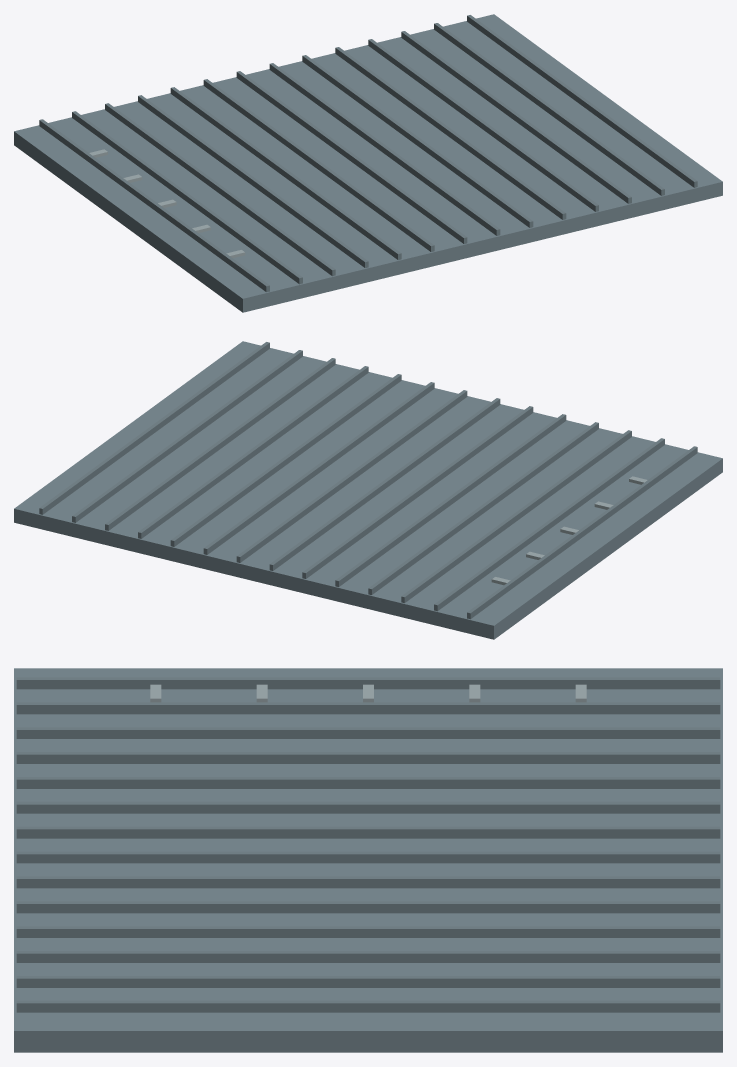
Rendered from DF_ART_HarborAnnex_Roof.glb.
3 views of the same model, one above another, from view 1: azimuth 30°, elevation 25°; view 2: azimuth 150°, elevation 25°; view 3: azimuth 270°, elevation 25° (orthographic). The views are drawn at different scales.
Parts seen in each view (by area): view 1: roof_main_0, roof_rib_10, roof_rib_8, roof_rib_9, roof_rib_5, roof_rib_6, roof_rib_7, roof_rib_1, roof_rib_2, roof_rib_3, roof_rib_4, roof_rib_11 (+3 smaller); view 2: roof_main_0, roof_rib_10, roof_rib_8, roof_rib_9, roof_rib_5, roof_rib_6, roof_rib_7, roof_rib_1, roof_rib_2, roof_rib_3, roof_rib_4, roof_rib_11 (+3 smaller); view 3: roof_main_0, roof_rib_2, roof_rib_6, roof_rib_7, roof_rib_9, roof_rib_10, roof_rib_14, roof_rib_8, roof_rib_1, roof_rib_3, roof_rib_4, roof_rib_5 (+3 smaller).
Boxes of the visible parts, box(x1,y1,x2,y2) form: roof_main_0: box(14, 14, 722, 312); roof_rib_10: box(335, 47, 566, 219); roof_rib_8: box(269, 63, 500, 235); roof_rib_9: box(302, 55, 533, 227); roof_rib_5: box(170, 87, 401, 259); roof_rib_6: box(203, 79, 434, 251); roof_rib_7: box(236, 71, 467, 243); roof_rib_1: box(39, 119, 269, 292); roof_rib_2: box(72, 111, 302, 284); roof_rib_3: box(105, 103, 335, 276); roof_rib_4: box(138, 95, 368, 267); roof_rib_11: box(368, 39, 598, 211); roof_main_0: box(14, 341, 722, 639); roof_rib_10: box(170, 374, 401, 546); roof_rib_8: box(236, 390, 467, 562); roof_rib_9: box(203, 382, 434, 554); roof_rib_5: box(335, 414, 566, 586); roof_rib_6: box(302, 406, 533, 578); roof_rib_7: box(269, 398, 500, 570); roof_rib_1: box(467, 446, 697, 619); roof_rib_2: box(434, 438, 664, 611); roof_rib_3: box(401, 430, 631, 603); roof_rib_4: box(368, 422, 598, 594); roof_rib_11: box(138, 366, 368, 538); roof_main_0: box(14, 668, 722, 1052); roof_rib_2: box(16, 702, 720, 714); roof_rib_6: box(16, 801, 720, 813); roof_rib_7: box(16, 826, 720, 838); roof_rib_9: box(16, 876, 720, 888); roof_rib_10: box(16, 901, 720, 913); roof_rib_14: box(16, 1000, 720, 1012); roof_rib_8: box(16, 851, 720, 863); roof_rib_1: box(16, 677, 720, 689); roof_rib_3: box(16, 727, 720, 738); roof_rib_4: box(16, 752, 720, 763); roof_rib_5: box(16, 777, 720, 788).
Bounding box in the file's own units: 10.1 × 0.4 × 8.34.
